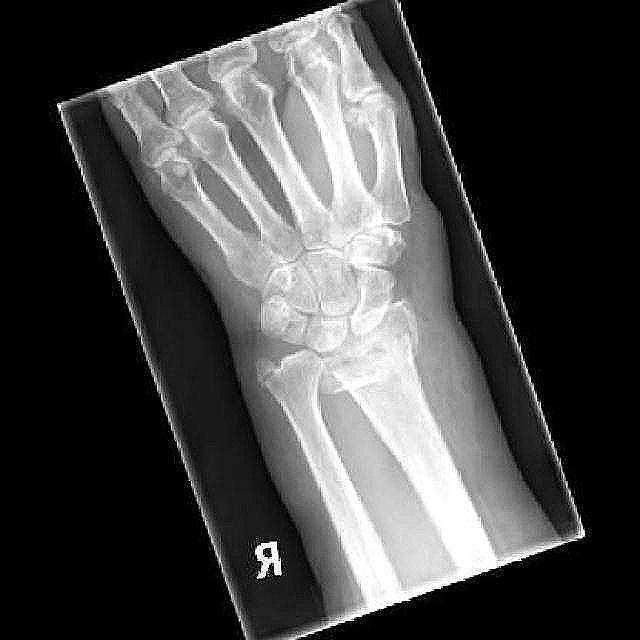bone: (328, 330, 410, 372), (340, 374, 380, 389), (259, 366, 279, 386)
